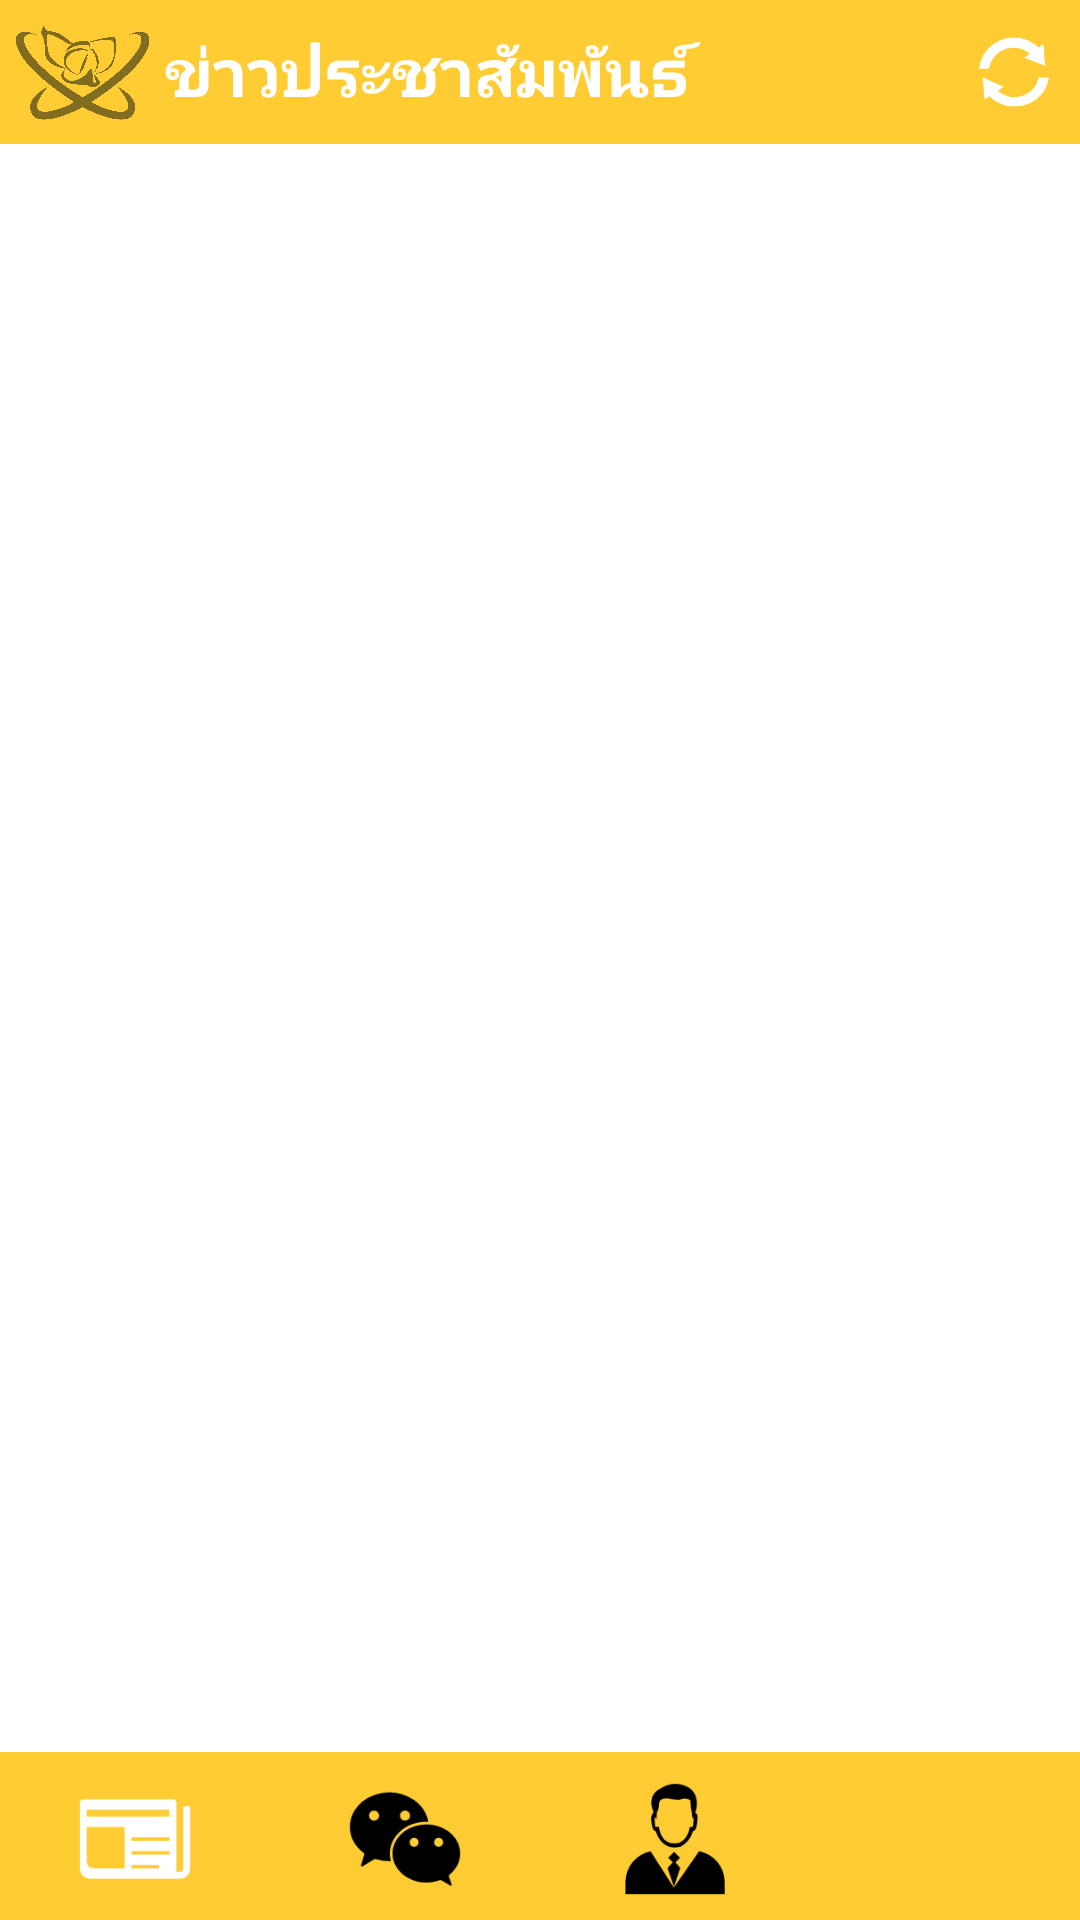

Screen size 1080x1920. Icon name, then its center in pixels as point (x, y):
news: point (135, 1839)
profile: point (675, 1839)
refresh: point (1014, 72)
